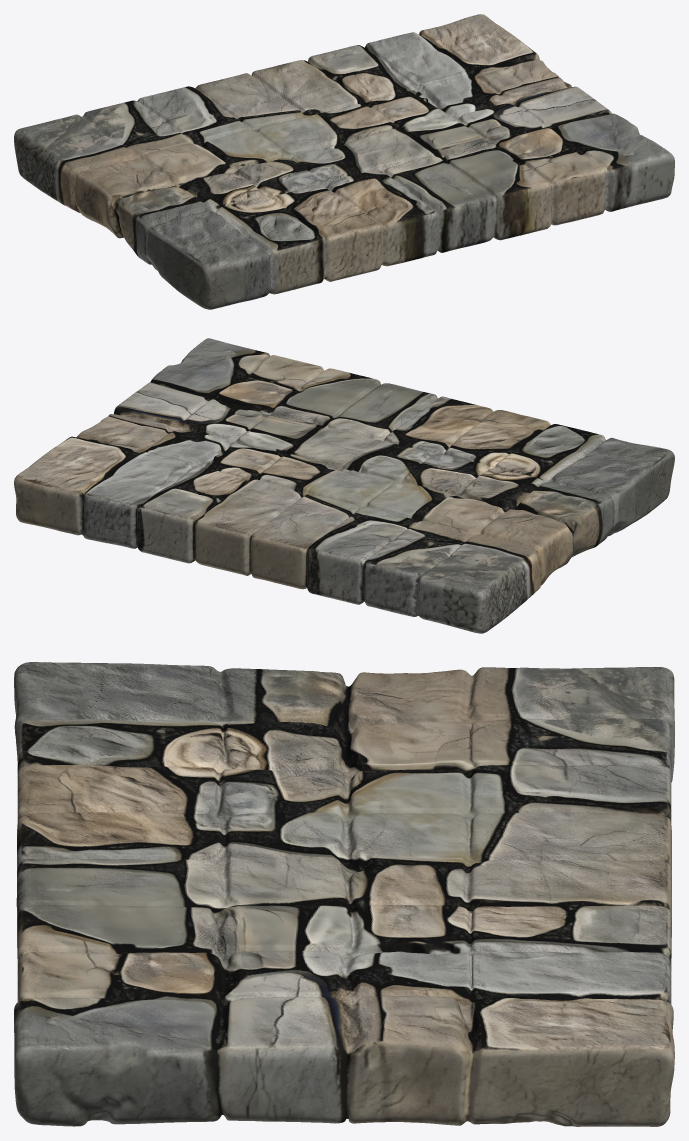
Rendered from Rocky_path.glb.
3 views of the same model, one above another, from view 1: azimuth 30°, elevation 25°; view 2: azimuth 150°, elevation 25°; view 3: azimuth 270°, elevation 25° (orthographic). The views are drawn at different scales.
Visible parts, largest first — view 1: Object_4, Object_5, Object_6; view 2: Object_5, Object_4, Object_6; view 3: Object_5, Object_4, Object_6.
Boxes of the visible parts, box(x1,y1,x2,y2) form: Object_4: box(14, 42, 674, 309); Object_5: box(15, 14, 571, 222); Object_6: box(14, 15, 621, 270); Object_5: box(14, 414, 552, 633); Object_4: box(60, 338, 674, 616); Object_6: box(14, 372, 631, 629); Object_5: box(333, 667, 674, 1126); Object_4: box(14, 662, 674, 1126); Object_6: box(163, 668, 674, 1124).
Bounding box in the file's own units: 1.99 × 0.2 × 1.42.
Materials: 1 (1 with a texture image).
